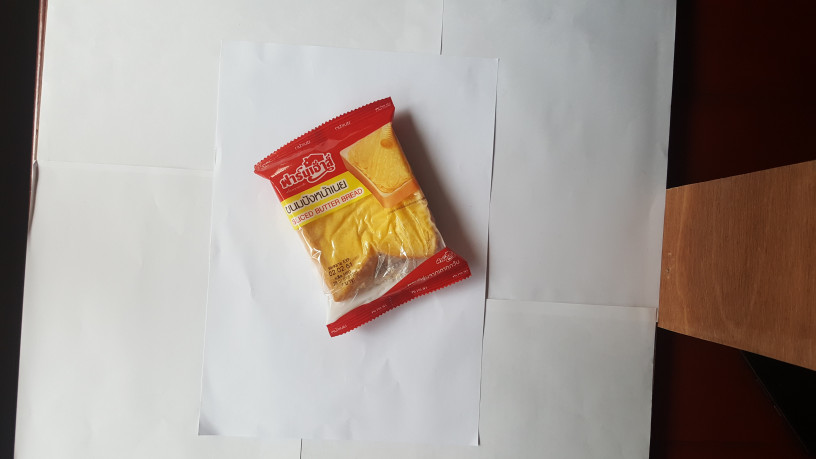farmhouse-bread-butter: (244, 95, 475, 347)
